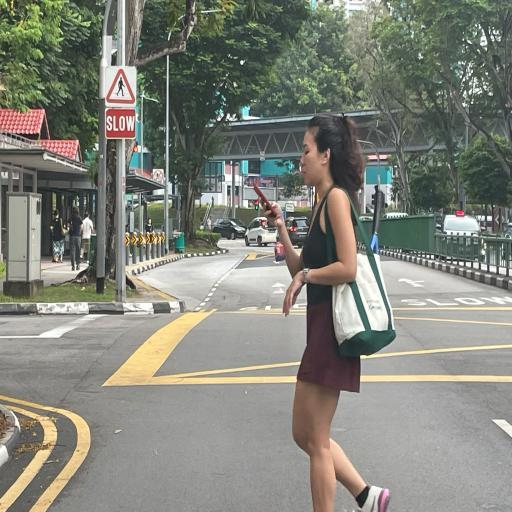person_left: (258, 108, 402, 512)
